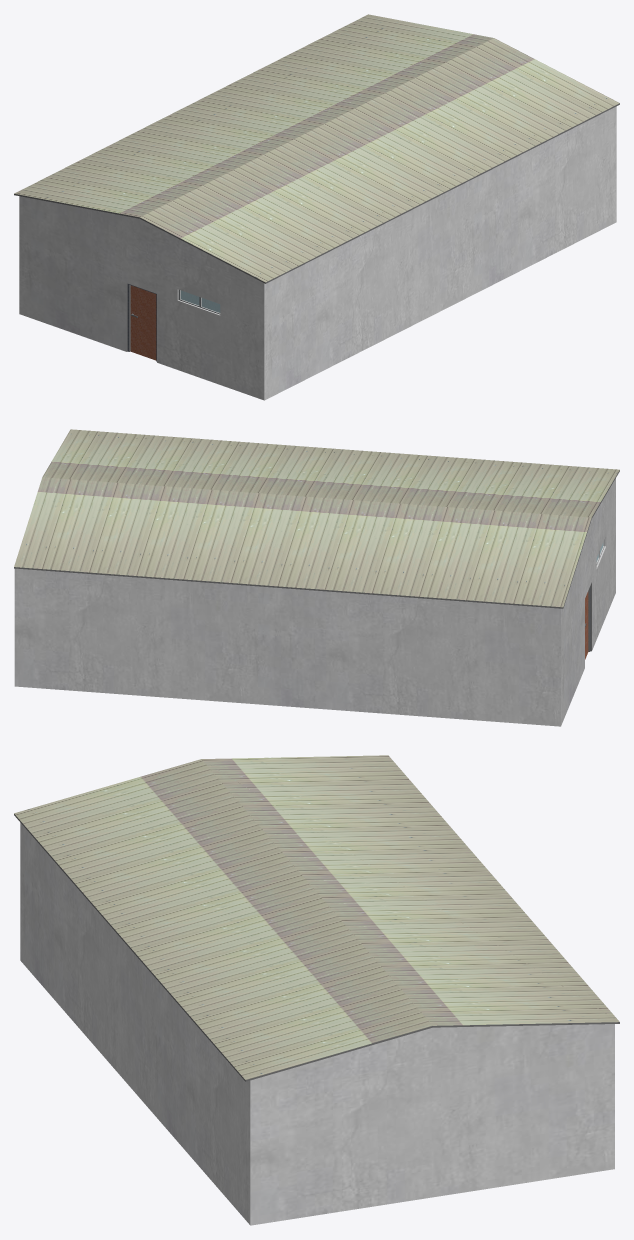
The picture shows the model from 3 angles, top to bottom: view 1: azimuth 30°, elevation 25°; view 2: azimuth 150°, elevation 25°; view 3: azimuth 270°, elevation 25°; orthographic projection. The views are drawn at different scales.
Parts seen in each view (by area): view 1: N棟; view 2: N棟; view 3: N棟.
Part boxes in pixels (x1,y1,x2,y2): N棟: (14, 14, 619, 400); N棟: (14, 429, 619, 726); N棟: (14, 755, 619, 1225).
Bounding box in the file's own units: 19.99 × 4.92 × 15.76.
Materials: 7 (6 with a texture image).
